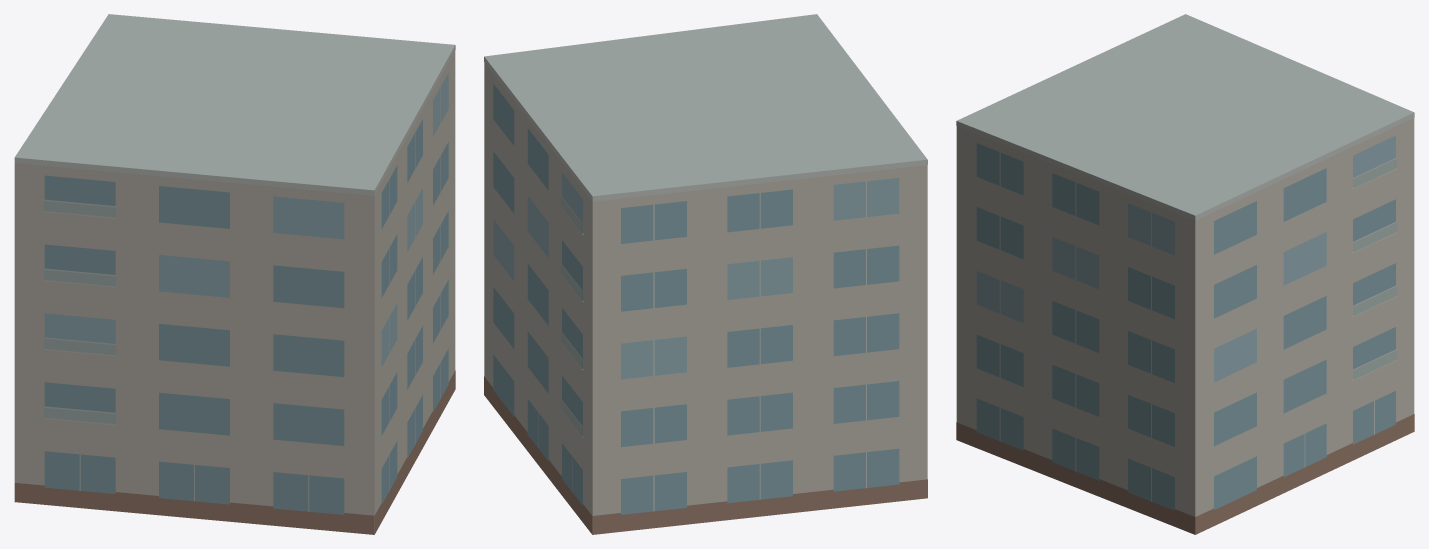
The model's file is survey-upis-32646675.glb.
3 renders of one model, left to right at view 1: azimuth 30°, elevation 25°; view 2: azimuth 150°, elevation 25°; view 3: azimuth 270°, elevation 25°, orthographic. The views are drawn at different scales.
Parts seen in each view (by area): view 1: survey-upis-32646675.tmp; view 2: survey-upis-32646675.tmp; view 3: survey-upis-32646675.tmp.
Boxes of the visible parts, x1,y1,x2,y2 form: survey-upis-32646675.tmp: (14,14,455,534); survey-upis-32646675.tmp: (484,14,927,534); survey-upis-32646675.tmp: (956,14,1414,534).
Bounding box in the file's own units: 20.67 × 15.25 × 19.84.
